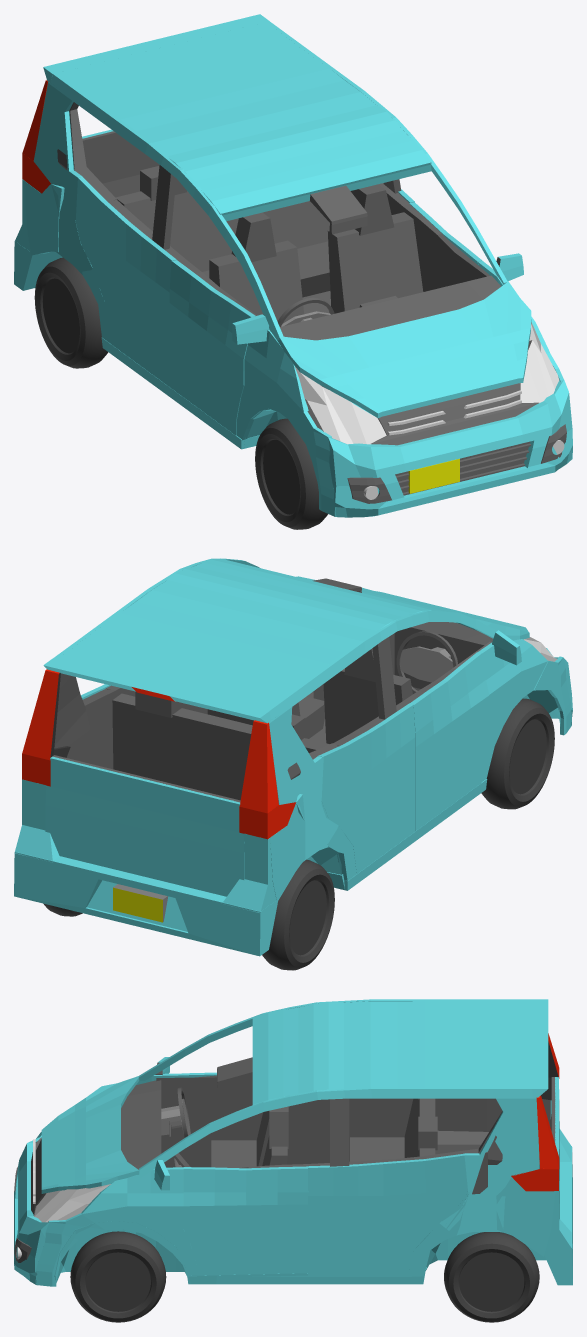
Rendered from EKB11WS.fbx.
3 renders of one model, top to bottom at view 1: azimuth 30°, elevation 25°; view 2: azimuth 150°, elevation 25°; view 3: azimuth 270°, elevation 25°, orthographic. The views are drawn at different scales.
Parts seen in each view (by area): view 1: 立方体.016, 立方体.021, 立方体.024, 立方体.037, 立方体.057, 立方体.036, 立方体.053, RearRight, FrontRight, 立方体.039, 立方体.006, 立方体.020 (+27 smaller); view 2: 立方体.016, 立方体.063, 立方体, 立方体.037, 立方体.053, 立方体.036, FrontRight, RearRight, 立方体.006, 立方体.020, 立方体.057, 立方体.013 (+27 smaller); view 3: 立方体.016, 立方体.038, 立方体.035, 立方体.044, 立方体.021, FrontLeft, RearLeft, 立方体.005, 立方体.019, 立方体.015, 立方体.039, 立方体.003 (+28 smaller).
Part boxes in pixels (left/top/right/bottom): 立方体.016: left=57, top=22, right=431, bottom=215; 立方体.021: left=277, top=281, right=531, bottom=418; 立方体.024: left=328, top=380, right=572, bottom=517; 立方体.037: left=76, top=176, right=176, bottom=386; 立方体.057: left=209, top=212, right=423, bottom=323; 立方体.036: left=169, top=260, right=255, bottom=435; 立方体.053: left=115, top=191, right=329, bottom=271; RearRight: left=34, top=257, right=108, bottom=368; FrontRight: left=255, top=418, right=327, bottom=529; 立方体.039: left=280, top=275, right=500, bottom=386; 立方体.006: left=33, top=83, right=92, bottom=274; 立方体.020: left=236, top=316, right=308, bottom=440; 立方体.016: left=57, top=558, right=431, bottom=709; 立方体.063: left=45, top=756, right=244, bottom=896; 立方体: left=14, top=852, right=277, bottom=956; 立方体.037: left=318, top=703, right=415, bottom=873; 立方体.053: left=112, top=693, right=329, bottom=800; 立方体.036: left=410, top=652, right=489, bottom=831; FrontRight: left=481, top=698, right=554, bottom=809; RearRight: left=262, top=859, right=334, bottom=970; 立方体.006: left=269, top=707, right=338, bottom=861; 立方体.020: left=478, top=639, right=547, bottom=781; 立方体.057: left=207, top=668, right=412, bottom=743; 立方体.013: left=265, top=610, right=505, bottom=722; 立方体.016: left=252, top=1000, right=531, bottom=1105; 立方体.038: left=308, top=1153, right=467, bottom=1276; 立方体.035: left=183, top=1166, right=308, bottom=1276; 立方体.044: left=156, top=1075, right=413, bottom=1167; 立方体.021: left=41, top=1076, right=139, bottom=1193; FrontLeft: left=70, top=1231, right=166, bottom=1322; RearLeft: left=444, top=1232, right=539, bottom=1322; 立方体.005: left=439, top=1098, right=539, bottom=1235; 立方体.019: left=81, top=1167, right=196, bottom=1276; 立方体.015: left=139, top=1087, right=533, bottom=1178; 立方体.039: left=121, top=1080, right=161, bottom=1169; 立方体.003: left=496, top=1177, right=555, bottom=1256.
Bounding box in the file's own units: 119 × 108 × 237.
